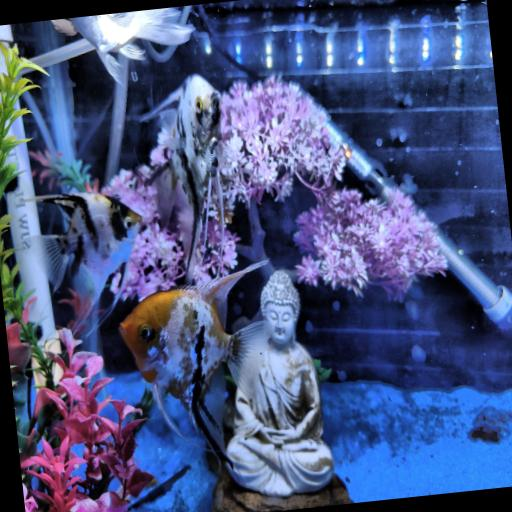Fish: (120, 261, 269, 461), (140, 75, 224, 284), (33, 193, 140, 329), (50, 7, 192, 83)
